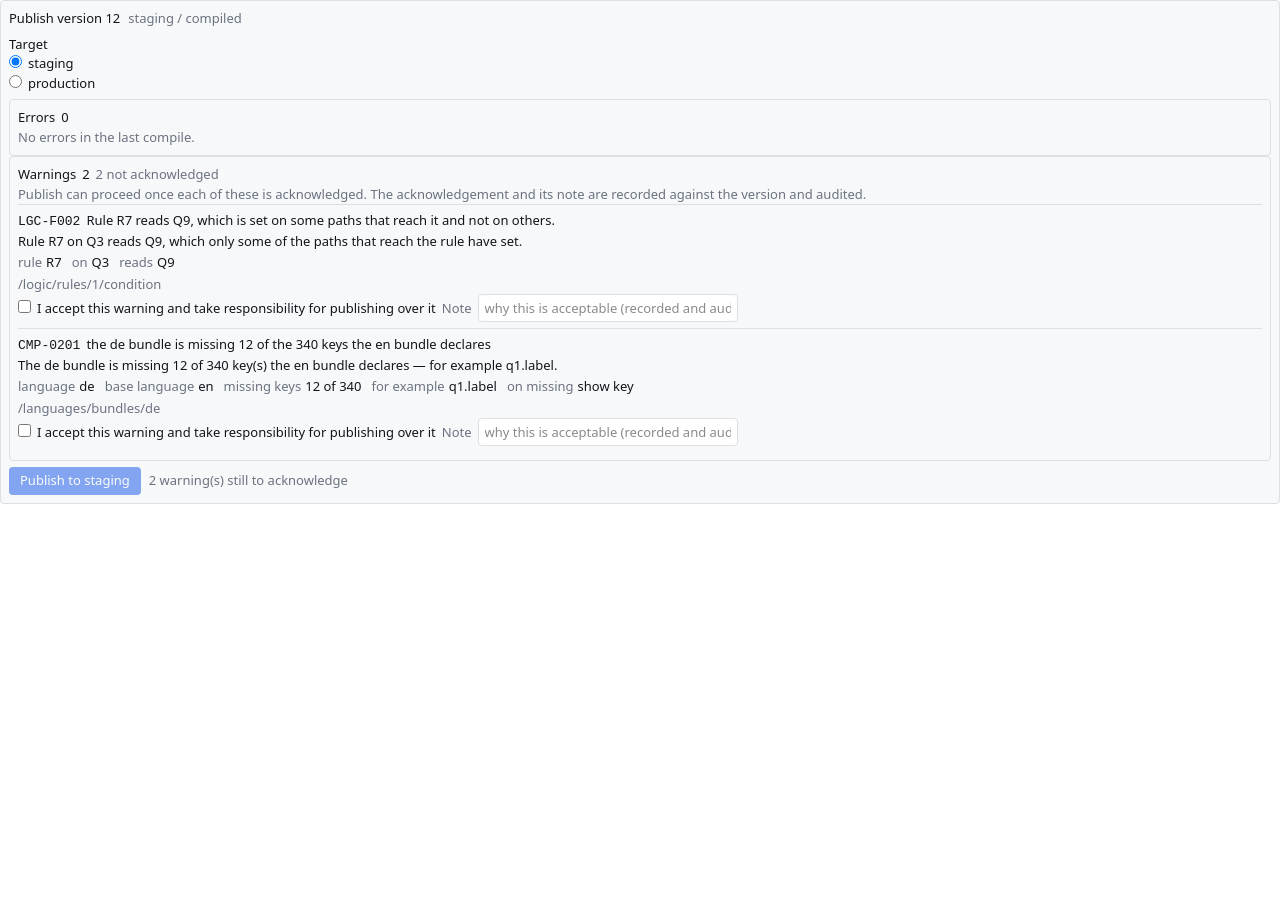
Test: PublishDialog › keeps publish disabled until every warning is acknowledged, and says how many are left
Expected: the button with test id "publish-submit" is disabled, [9, 467, 141, 495]
Expected: the text with test id "diagnostics-warning-outstanding" reads "2 not acknowledged", [96, 165, 219, 183]
Click the checkbox with test id "diagnostic-warning-0-ack" at (24, 306), box [18, 300, 31, 313]
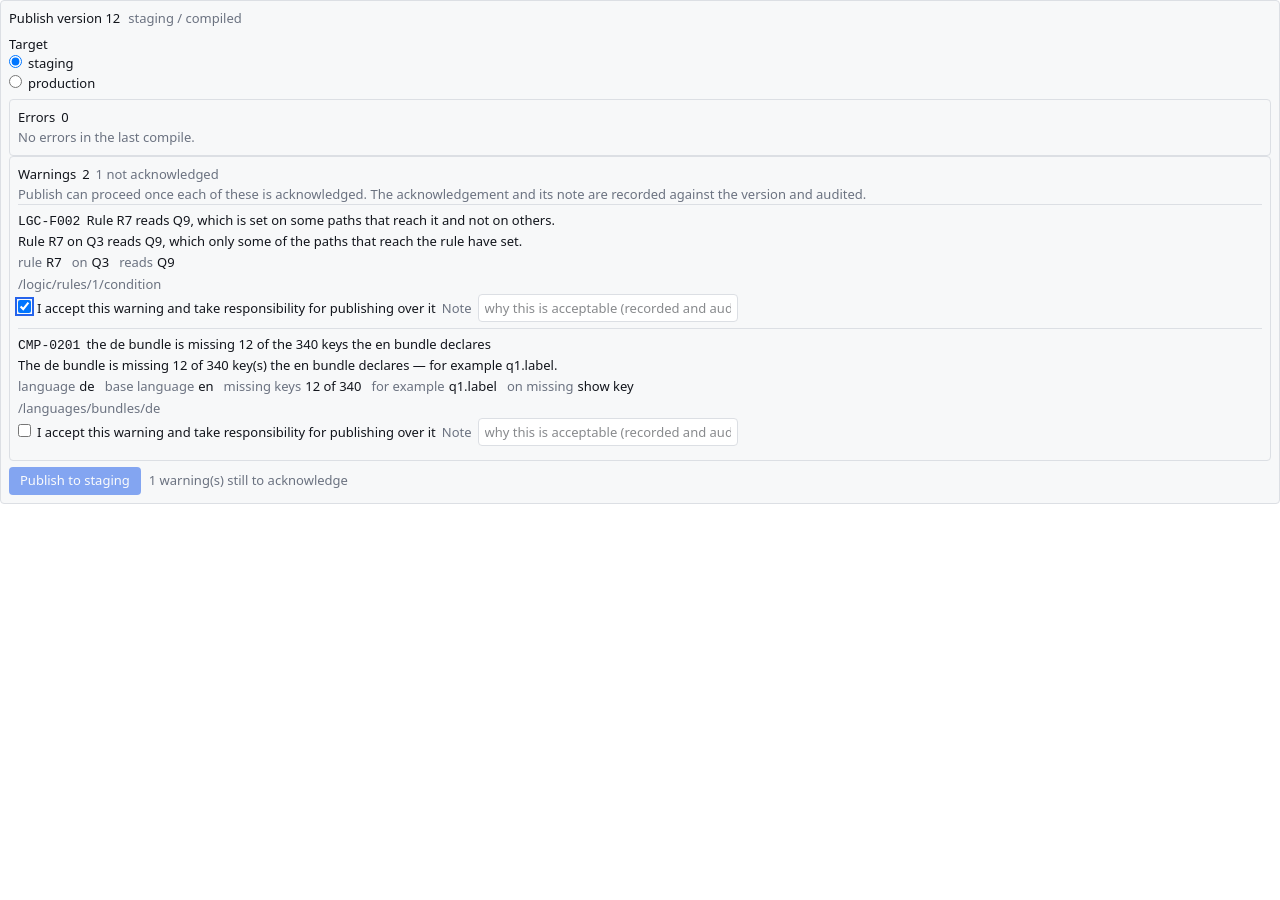
Expected: the button with test id "publish-submit" is disabled, [9, 467, 141, 495]
Expected: the text with test id "diagnostics-warning-outstanding" reads "1 not acknowledged", [96, 165, 219, 183]
Expected: the text with test id "publish-blocked-reason" reads "1 warning(s) still to acknowledge", [149, 471, 348, 489]
Click the checkbox with test id "diagnostic-warning-1-ack" at (24, 430), box [18, 424, 31, 437]
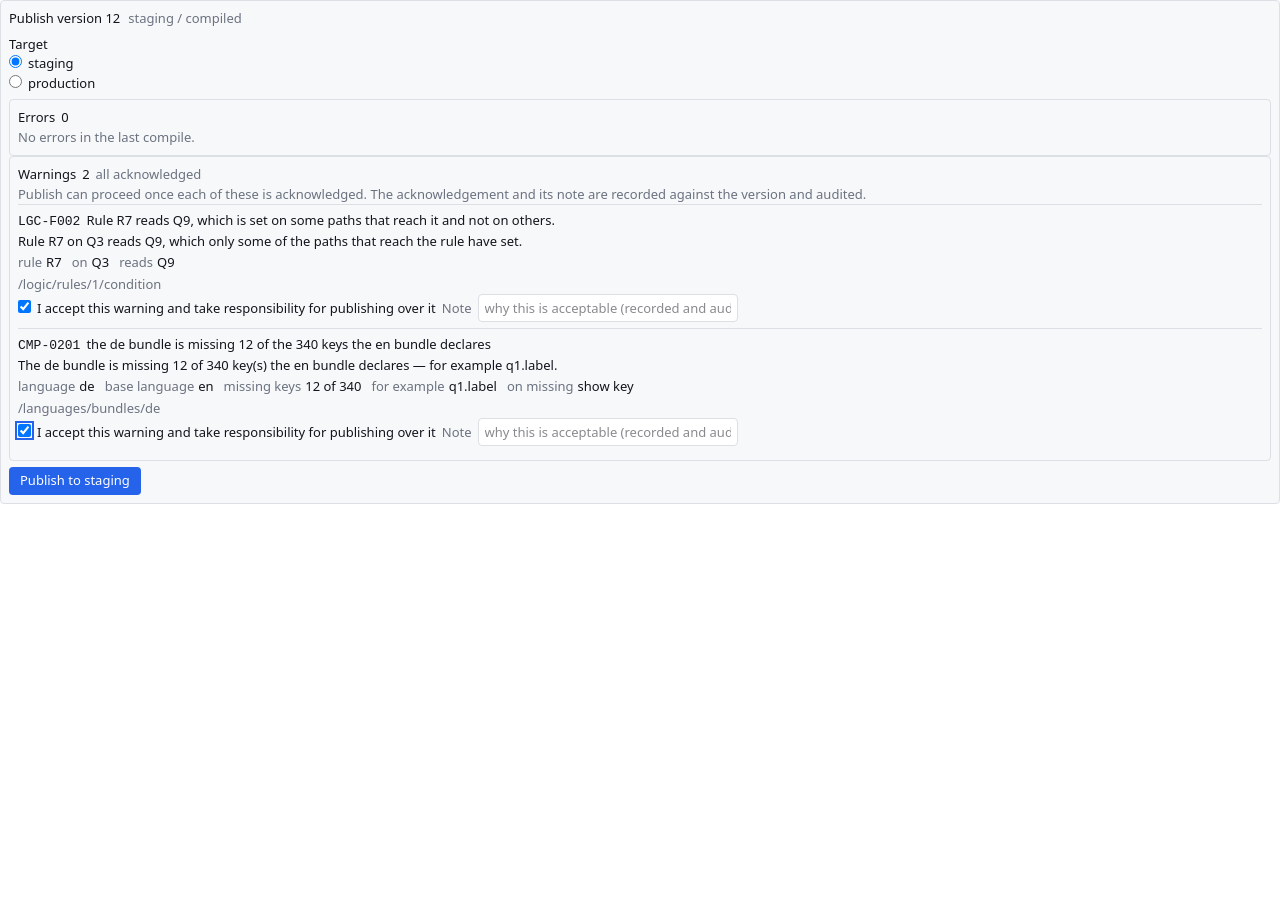
Expected: the button with test id "publish-submit" is enabled, [9, 467, 141, 495]
Expected: the text with test id "diagnostics-warning-outstanding" reads "all acknowledged", [96, 165, 201, 183]
// Un-ticking one is a withdrawn signature, and the gate closes again.
Click the checkbox with test id "diagnostic-warning-0-ack" at (24, 306), box [18, 300, 31, 313]
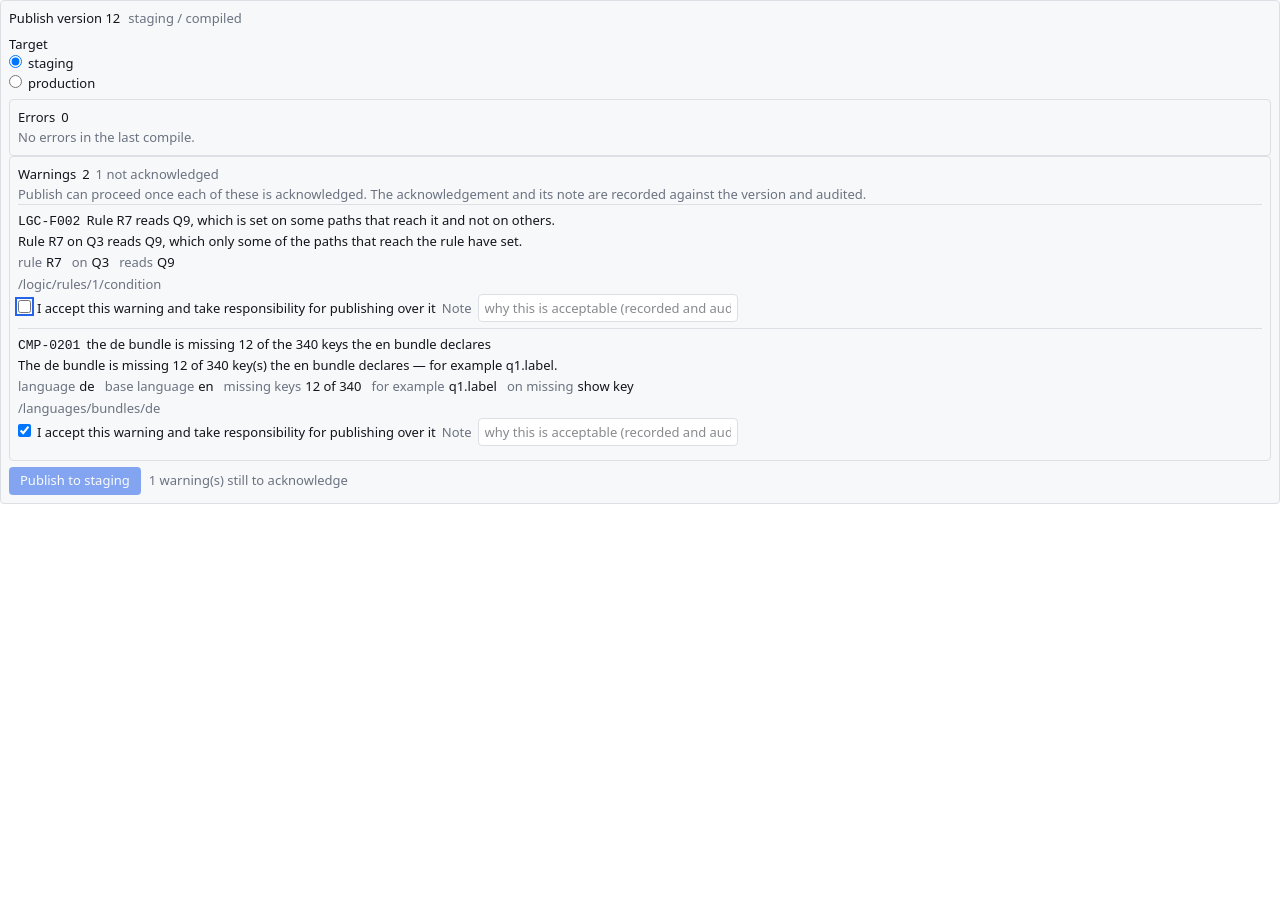
Expected: the button with test id "publish-submit" is disabled, [9, 467, 141, 495]
